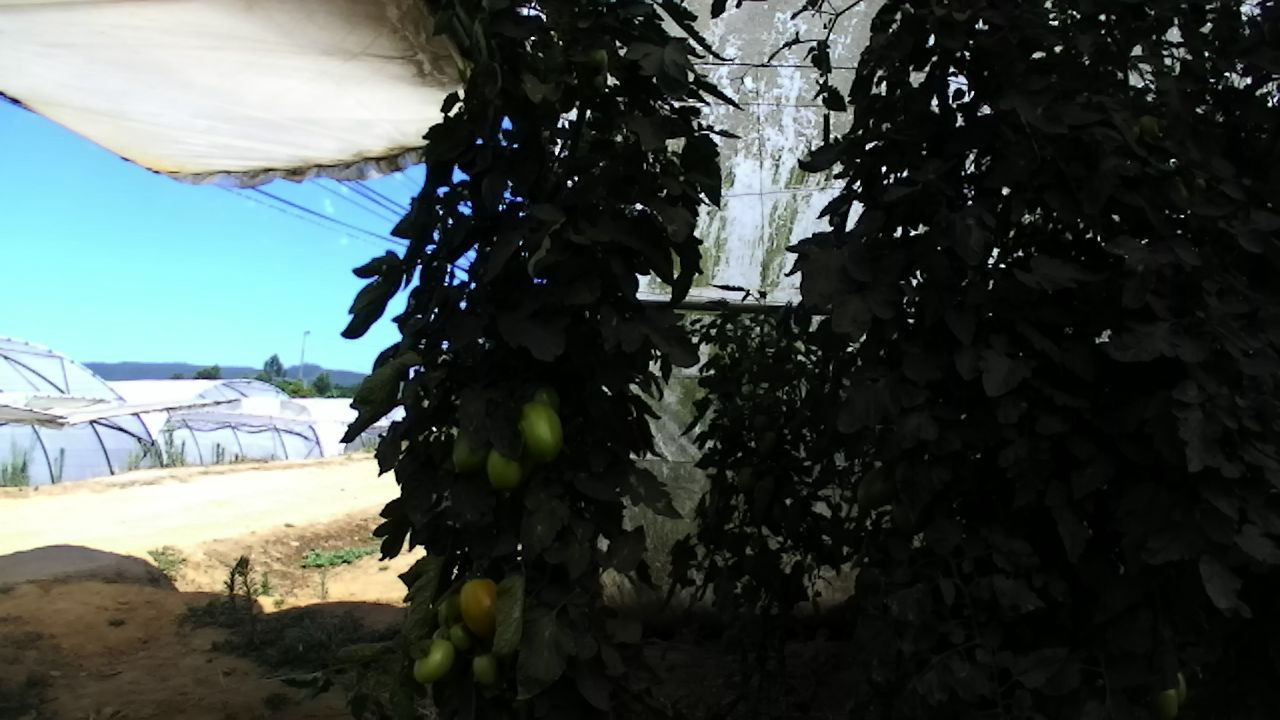tomato: (518, 399, 565, 463), (447, 424, 493, 475), (459, 580, 500, 636), (411, 638, 456, 685), (486, 444, 522, 490), (469, 652, 500, 688), (448, 622, 471, 651)
